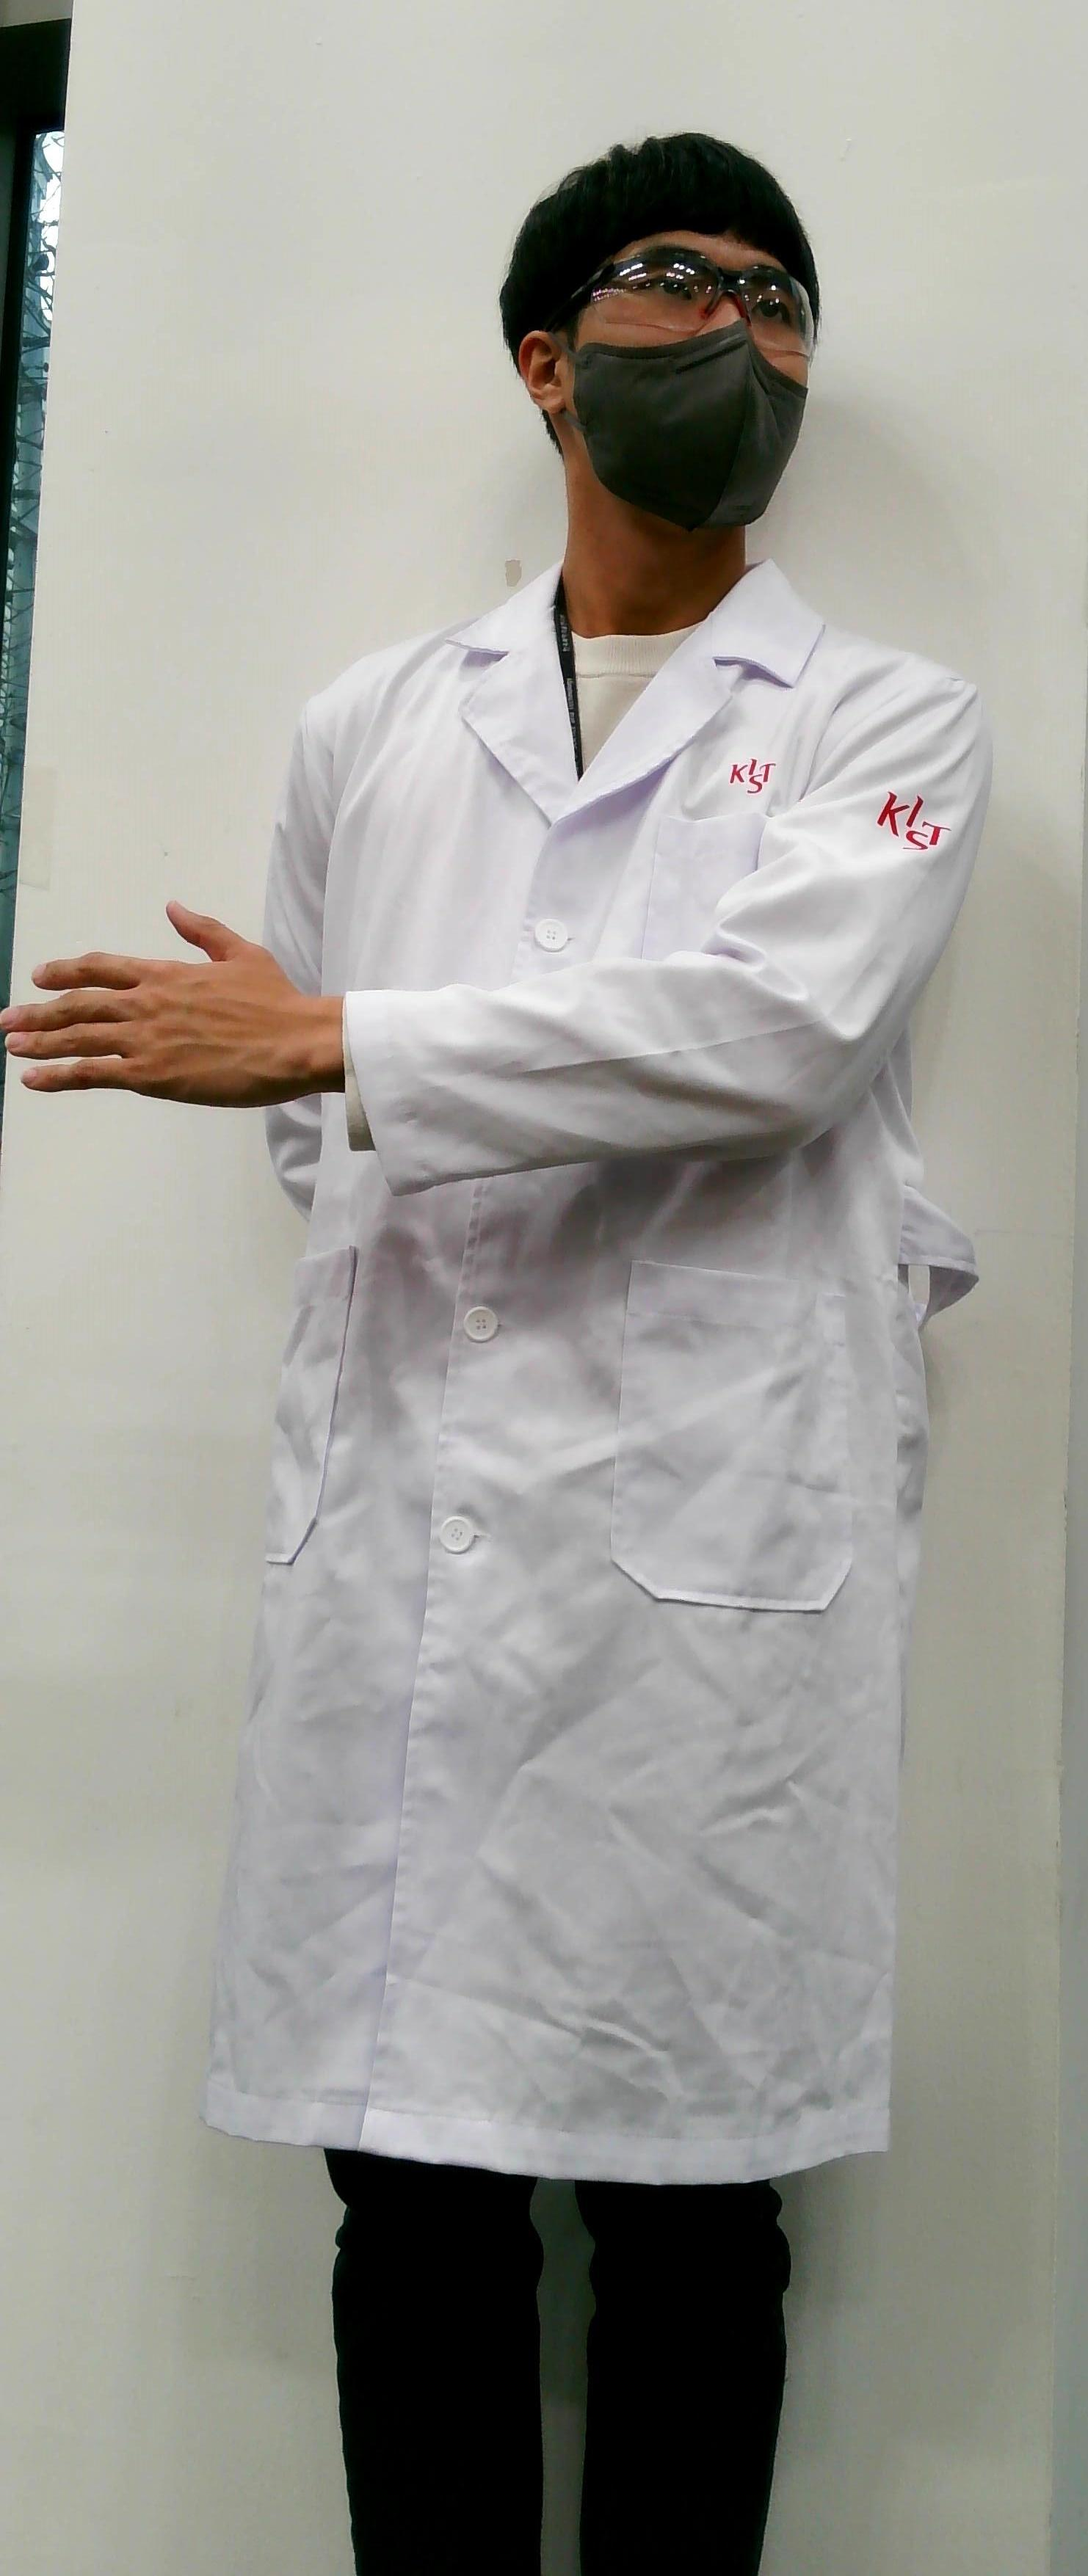lab_coat: (312, 618, 1007, 2119)
